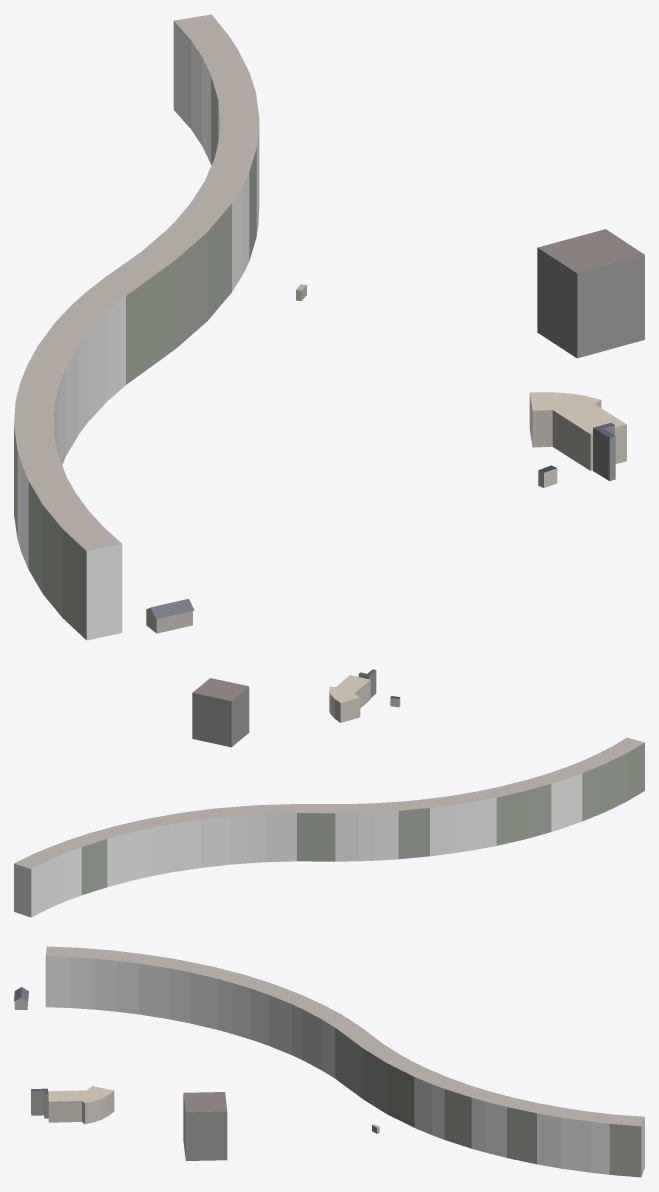
The picture shows the model from 3 angles, top to bottom: view 1: azimuth 30°, elevation 25°; view 2: azimuth 150°, elevation 25°; view 3: azimuth 270°, elevation 25°; orthographic projection. The views are drawn at different scales.
Visible parts, largest first — view 1: tuile; view 2: tuile; view 3: tuile.
Boxes of the visible parts, left/top/right/bottom form: tuile: left=14, top=14, right=644, bottom=640; tuile: left=14, top=669, right=644, bottom=917; tuile: left=14, top=946, right=644, bottom=1177.
Bounding box in the file's own units: 224 × 41.39 × 315.
